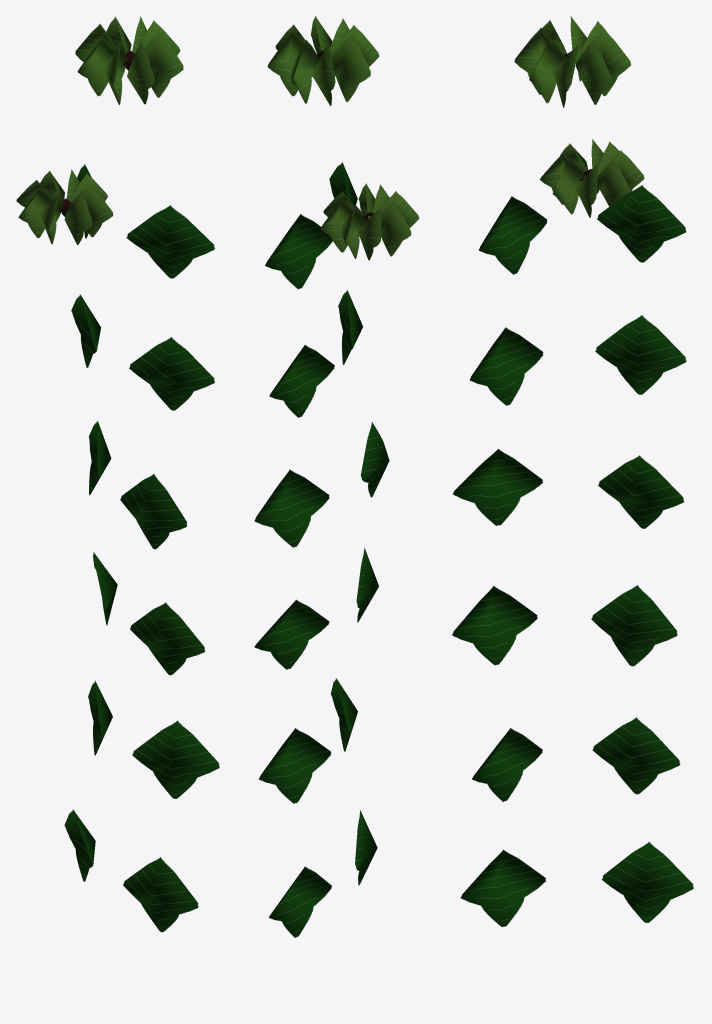
Rendered from Herb_RoseMallow.glb.
3 views of the same model, side by side, from view 1: azimuth 30°, elevation 25°; view 2: azimuth 150°, elevation 25°; view 3: azimuth 270°, elevation 25° (orthographic). The views are drawn at different scales.
Visible parts, largest first — view 1: Herb_RoseMallow; view 2: Herb_RoseMallow; view 3: Herb_RoseMallow.
Boxes of the visible parts, x1=… form: Herb_RoseMallow: x1=16, y1=16, x2=219, y2=932; Herb_RoseMallow: x1=254, y1=16, x2=419, y2=937; Herb_RoseMallow: x1=452, y1=16, x2=693, y2=927.
Size of the model in its own units: 0.2813 by 1.72 by 0.3898.
Materials: 1 (1 with a texture image).
